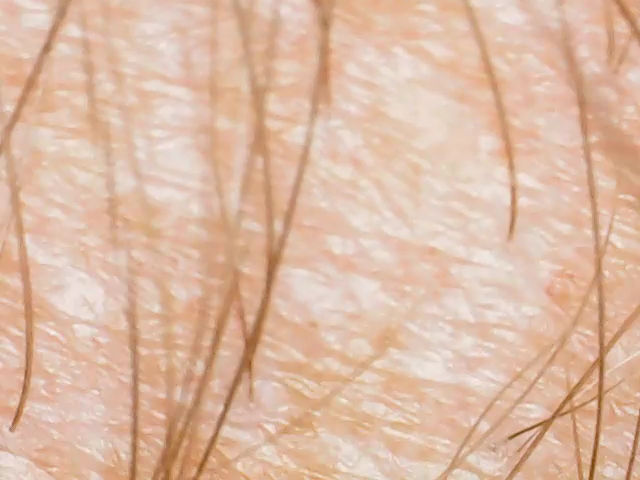folicle: (312, 88, 340, 126), (493, 227, 522, 253), (495, 427, 524, 451), (242, 390, 264, 413), (1, 419, 24, 441), (611, 53, 629, 80), (595, 56, 618, 73)
